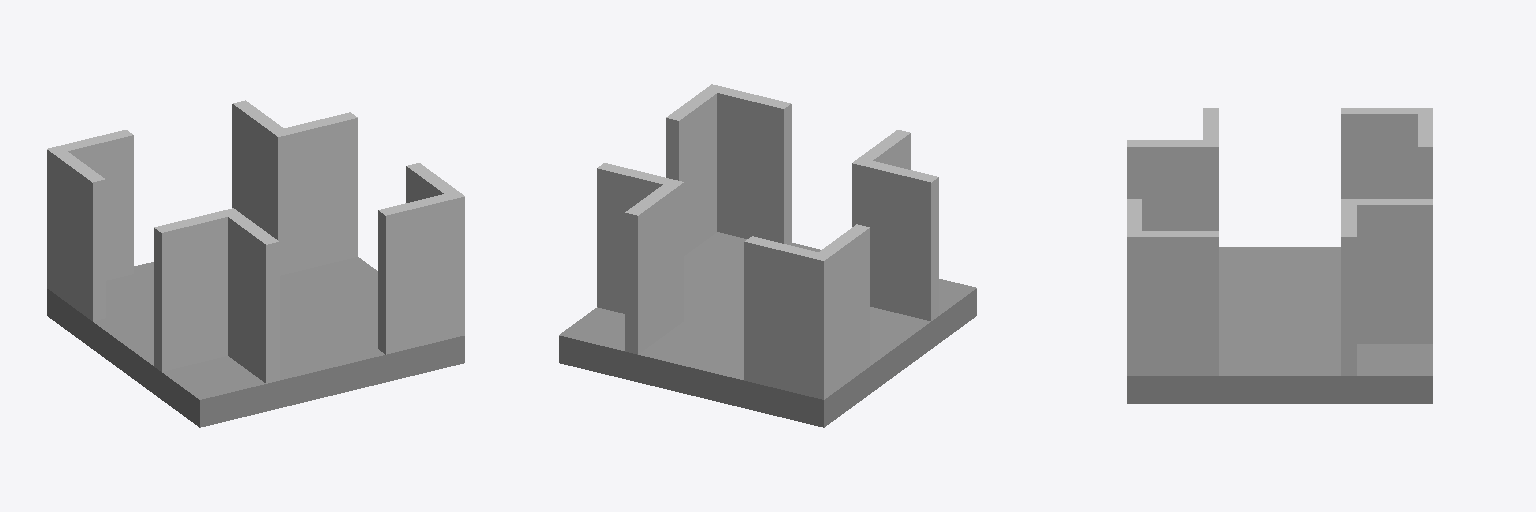
File: hybrid-intersection-2_1.obj
3 views of the same model, side by side, from view 1: azimuth 30°, elevation 25°; view 2: azimuth 150°, elevation 25°; view 3: azimuth 270°, elevation 25° (orthographic).
Parts seen in each view (by area): view 1: Cube, Cube.007_Cube.008, Cube.008_Cube.011, Cube.001, Cube.006_Cube.002, Cube.002_Cube.010, Cube.005, Cube.003, Cube.004; view 2: Cube, Cube.008_Cube.011, Cube.007_Cube.008, Cube.003, Cube.005, Cube.006_Cube.002, Cube.004, Cube.001, Cube.002_Cube.010; view 3: Cube, Cube.004, Cube.005, Cube.006_Cube.002, Cube.002_Cube.010, Cube.001, Cube.007_Cube.008, Cube.008_Cube.011, Cube.003.
Boxes of the visible parts, x1=… form: Cube: x1=47, y1=257, x2=464, y2=427; Cube.007_Cube.008: x1=378, y1=191, x2=464, y2=354; Cube.008_Cube.011: x1=154, y1=208, x2=235, y2=371; Cube.001: x1=271, y1=112, x2=357, y2=274; Cube.006_Cube.002: x1=47, y1=146, x2=105, y2=320; Cube.002_Cube.010: x1=222, y1=209, x2=279, y2=383; Cube.005: x1=232, y1=100, x2=291, y2=275; Cube.003: x1=47, y1=130, x2=133, y2=291; Cube.004: x1=406, y1=163, x2=464, y2=337; Cube: x1=559, y1=232, x2=976, y2=427; Cube.008_Cube.011: x1=852, y1=158, x2=938, y2=320; Cube.007_Cube.008: x1=705, y1=84, x2=791, y2=244; Cube.003: x1=744, y1=236, x2=831, y2=399; Cube.005: x1=625, y1=179, x2=683, y2=354; Cube.006_Cube.002: x1=811, y1=224, x2=869, y2=399; Cube.004: x1=666, y1=86, x2=717, y2=255; Cube.001: x1=597, y1=163, x2=683, y2=325; Cube.002_Cube.010: x1=859, y1=130, x2=910, y2=169; Cube: x1=1127, y1=247, x2=1432, y2=403; Cube.004: x1=1127, y1=231, x2=1218, y2=375; Cube.005: x1=1342, y1=199, x2=1432, y2=343; Cube.006_Cube.002: x1=1341, y1=108, x2=1432, y2=198; Cube.002_Cube.010: x1=1127, y1=140, x2=1218, y2=230; Cube.001: x1=1341, y1=199, x2=1356, y2=375; Cube.007_Cube.008: x1=1127, y1=199, x2=1141, y2=375; Cube.008_Cube.011: x1=1203, y1=108, x2=1218, y2=230; Cube.003: x1=1418, y1=108, x2=1432, y2=198.
Size of the model in its own units: 10 by 6 by 10.